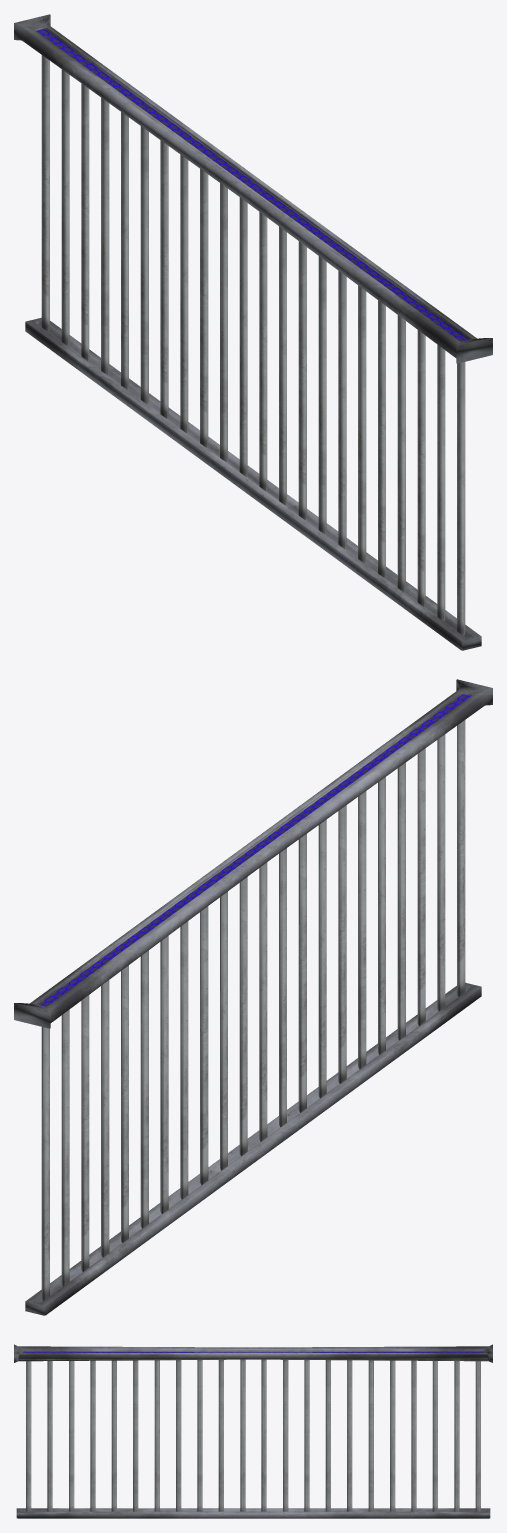
The model's file is flybar.glb.
3 renders of one model, top to bottom at view 1: azimuth 30°, elevation 25°; view 2: azimuth 150°, elevation 25°; view 3: azimuth 270°, elevation 25°, orthographic. The views are drawn at different scales.
Parts seen in each view (by area): view 1: defaultMaterial; view 2: defaultMaterial; view 3: defaultMaterial.
Boxes of the visible parts, box(x1,y1,x2,y2) form: defaultMaterial: box(14, 14, 492, 650); defaultMaterial: box(14, 679, 492, 1315); defaultMaterial: box(14, 1344, 492, 1518).
Bounding box in the file's own units: 2.15 × 17.4 × 45.24.
Materials: 1 (1 with a texture image).
